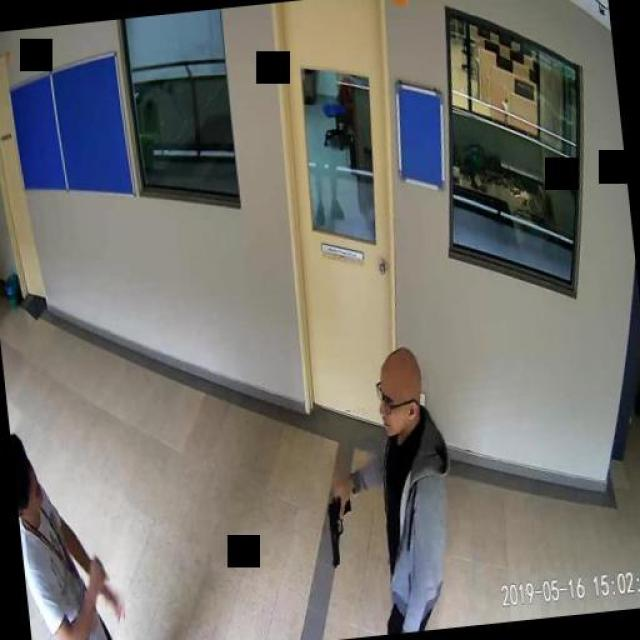gun: (325, 490, 356, 568)
